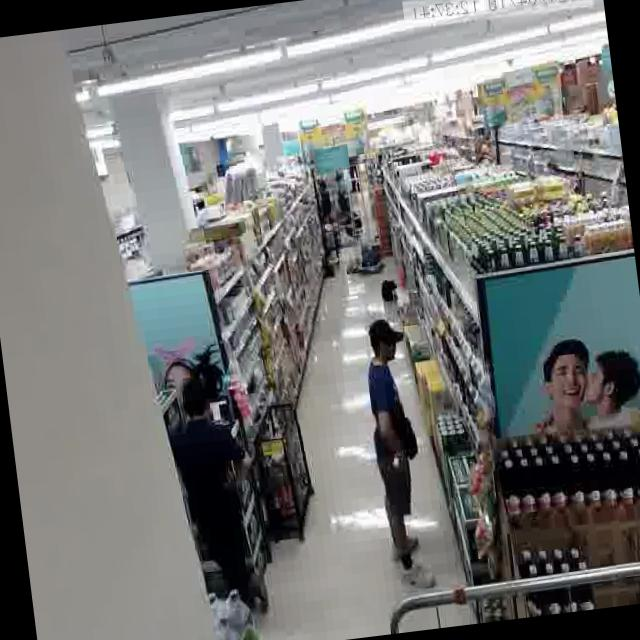shoplifting: (350, 307, 450, 599)
